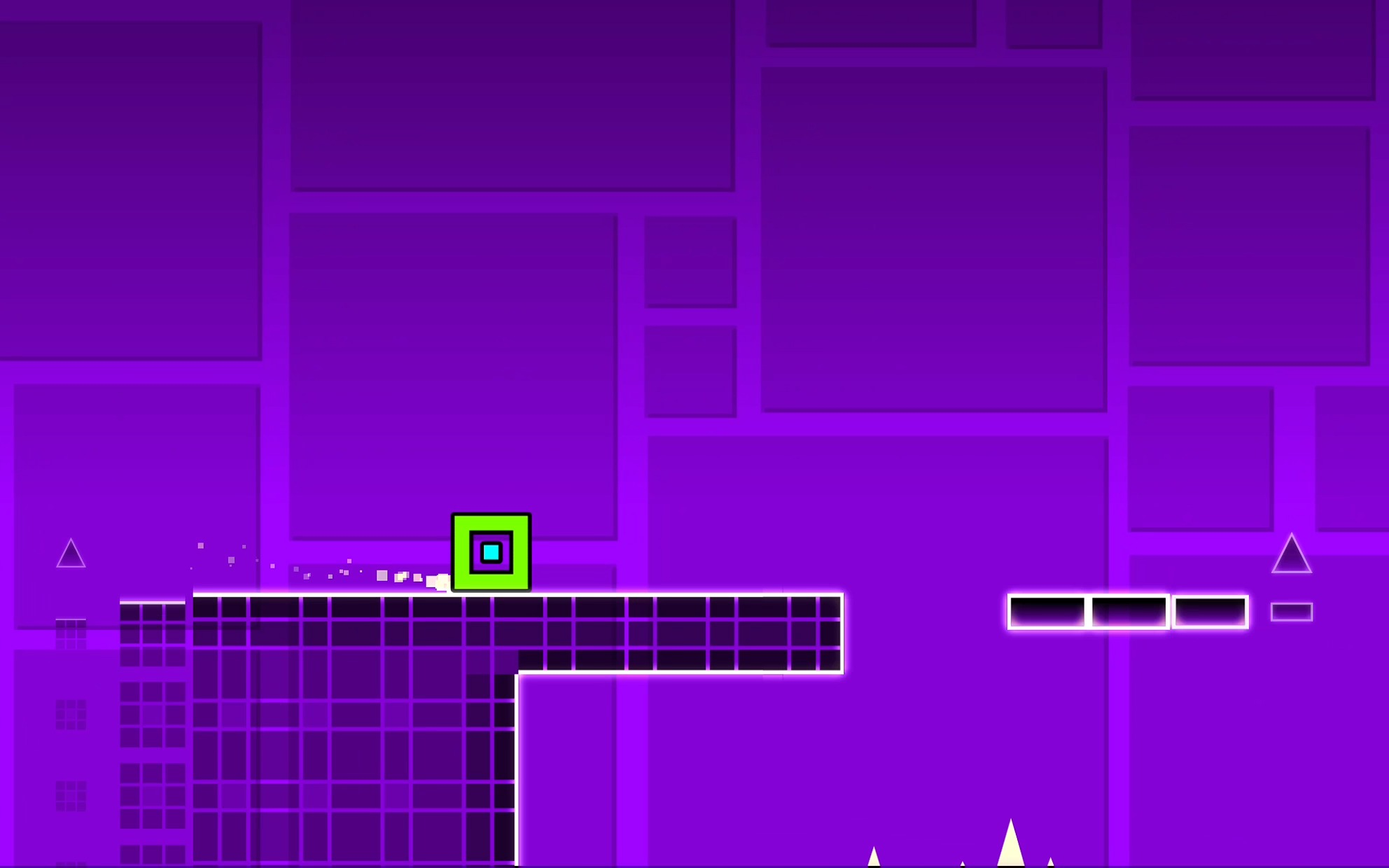Block2: (111, 593, 528, 860), (518, 592, 843, 672)
Block3: (1090, 595, 1166, 633), (1009, 594, 1091, 629), (1171, 594, 1249, 629), (1269, 602, 1314, 622)
Player: (449, 513, 531, 591)
Spike: (1271, 533, 1312, 573)
